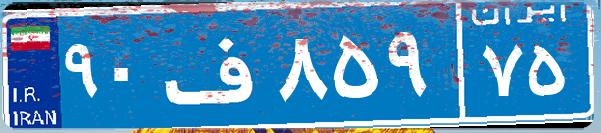0: (110, 28, 158, 105)
5: (330, 28, 385, 110), (525, 38, 570, 115)
7: (475, 38, 525, 113)
8: (273, 28, 330, 110)
9: (385, 28, 445, 110), (57, 26, 110, 107)
ف: (158, 15, 273, 115)
